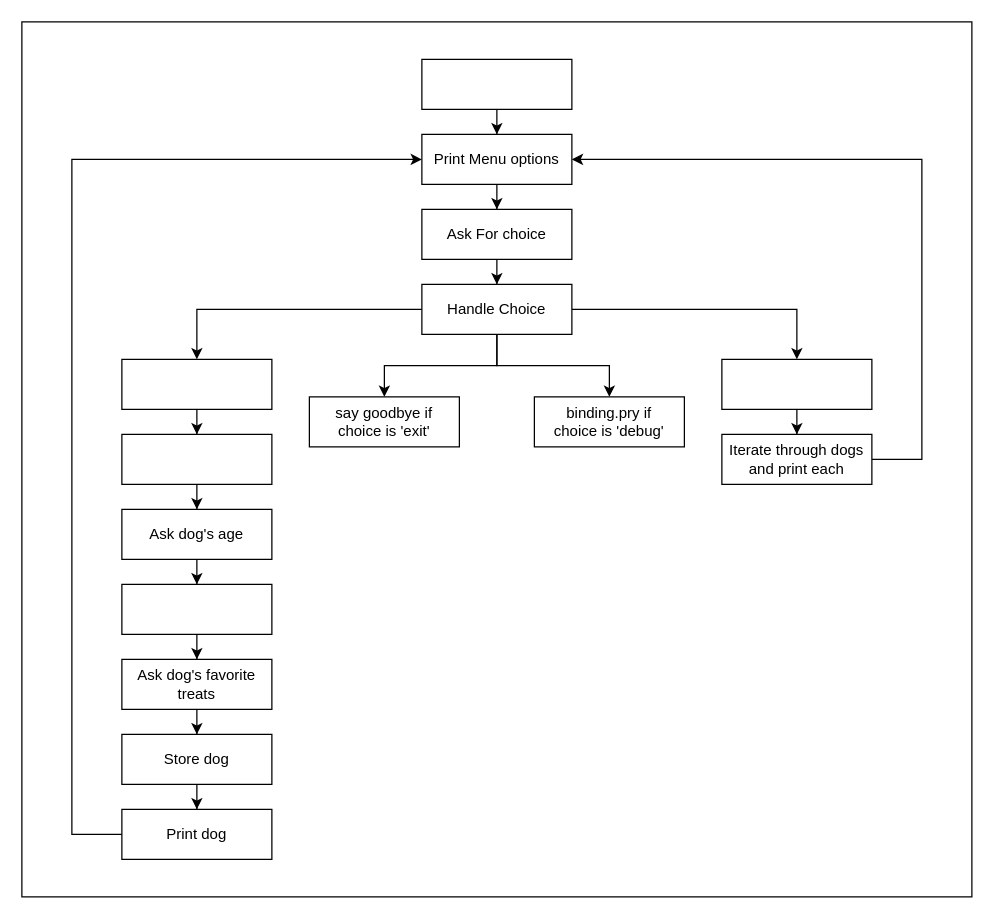
Some shapes in this 994 by 919 pixel diagram are drawn without their labels. Here are the shapes that lost their labels. From the top down, the centre of each, then its label:
pixel 496 83: Start
pixel 196 383: Add Dog
pixel 796 383: List Dogs
pixel 196 458: Ask dog's name
pixel 196 608: Ask dog's breed
